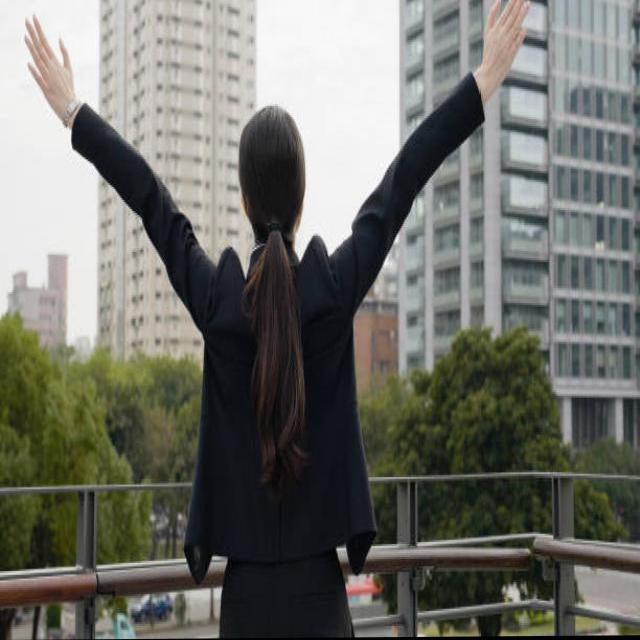no helmet: (236, 105, 308, 245)
